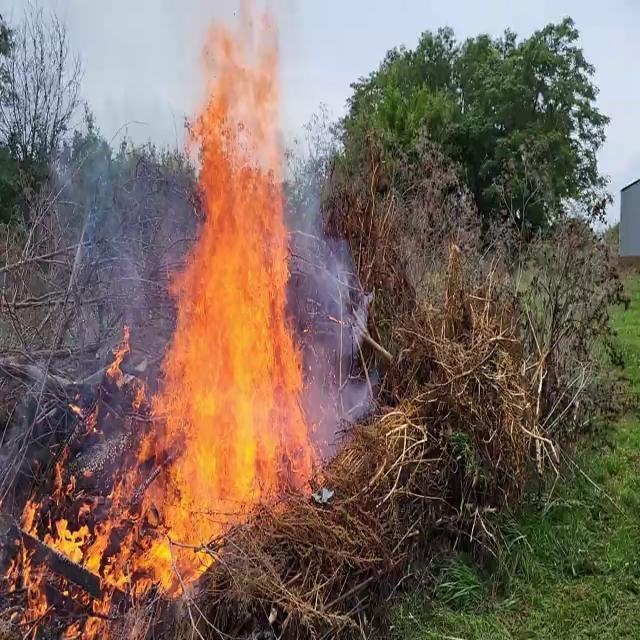Fire: (82, 36, 322, 598)
